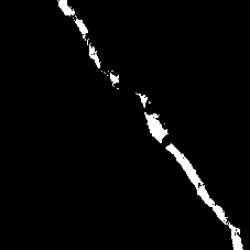crack: (166, 145, 242, 249), (58, 0, 119, 87), (138, 93, 168, 144)
